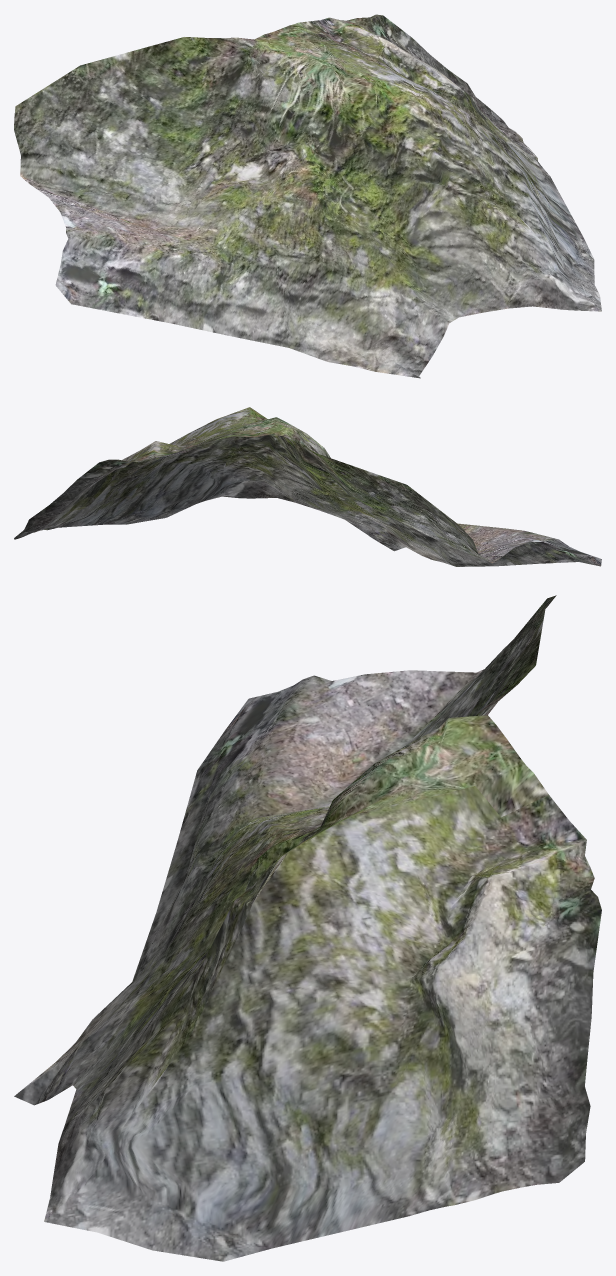
The model's file is Mossy_Formation_4.glb.
3 views of the same model, one above another, from view 1: azimuth 30°, elevation 25°; view 2: azimuth 150°, elevation 25°; view 3: azimuth 270°, elevation 25° (orthographic). The views are drawn at different scales.
Visible parts, largest first — view 1: Mossy_Formation_4; view 2: Mossy_Formation_4; view 3: Mossy_Formation_4.
Part boxes in pixels (x1,y1,x2,y2): Mossy_Formation_4: (14, 14, 601, 378); Mossy_Formation_4: (14, 407, 601, 566); Mossy_Formation_4: (14, 595, 601, 1261).
Size of the model in its own units: 1.6 by 0.6741 by 0.9417.
Materials: 1 (1 with a texture image).
